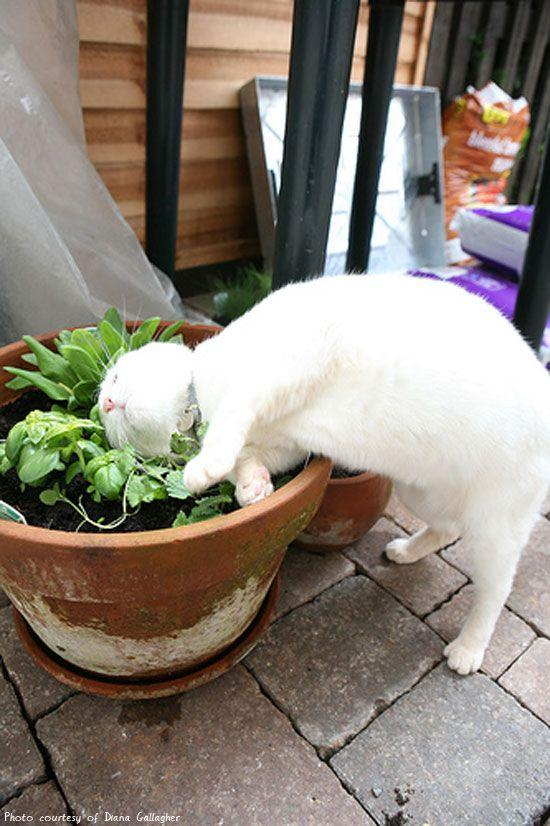kedo: (99, 272, 549, 675)
